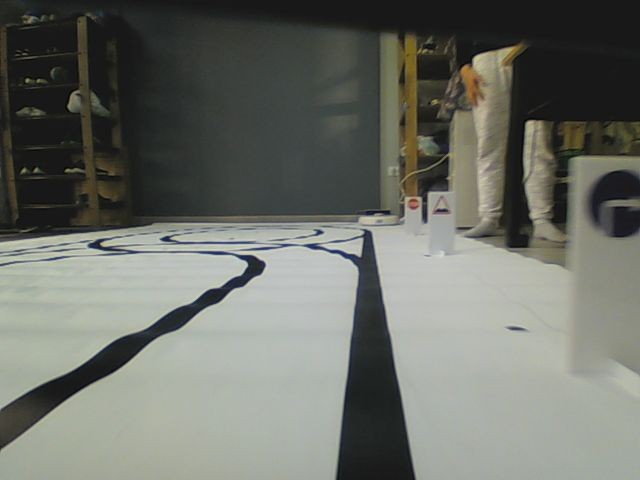Nerov: (431, 195, 451, 215)
Right: (587, 169, 640, 236)
